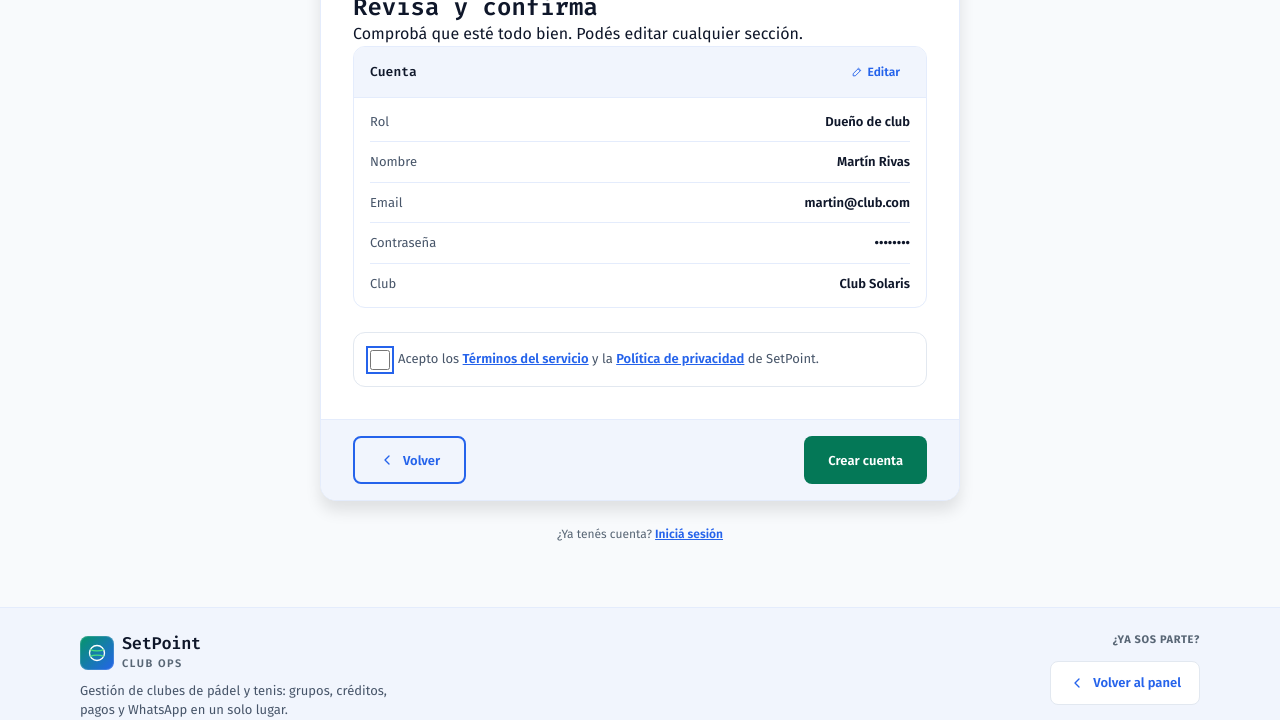
Test: OnboardingWizardComponent › sesión restaurada en confirm sin password: submit revalida cuenta y no crea el alta
The width and height of the screenshot is (1280, 720).
(page scrolled)
Click the checkbox at (380, 360), box [370,350,390,370]
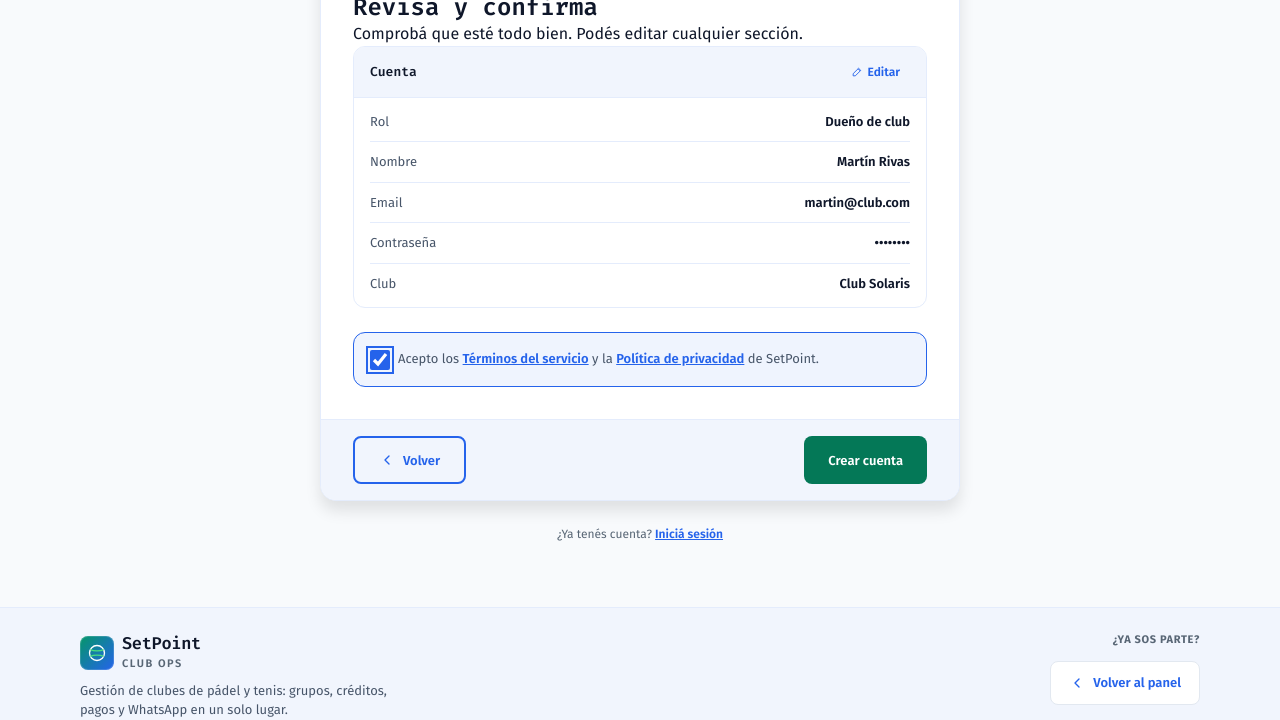
Click the button "Crear cuenta" at (866, 460), box [804,436,927,484]
(page scrolled)
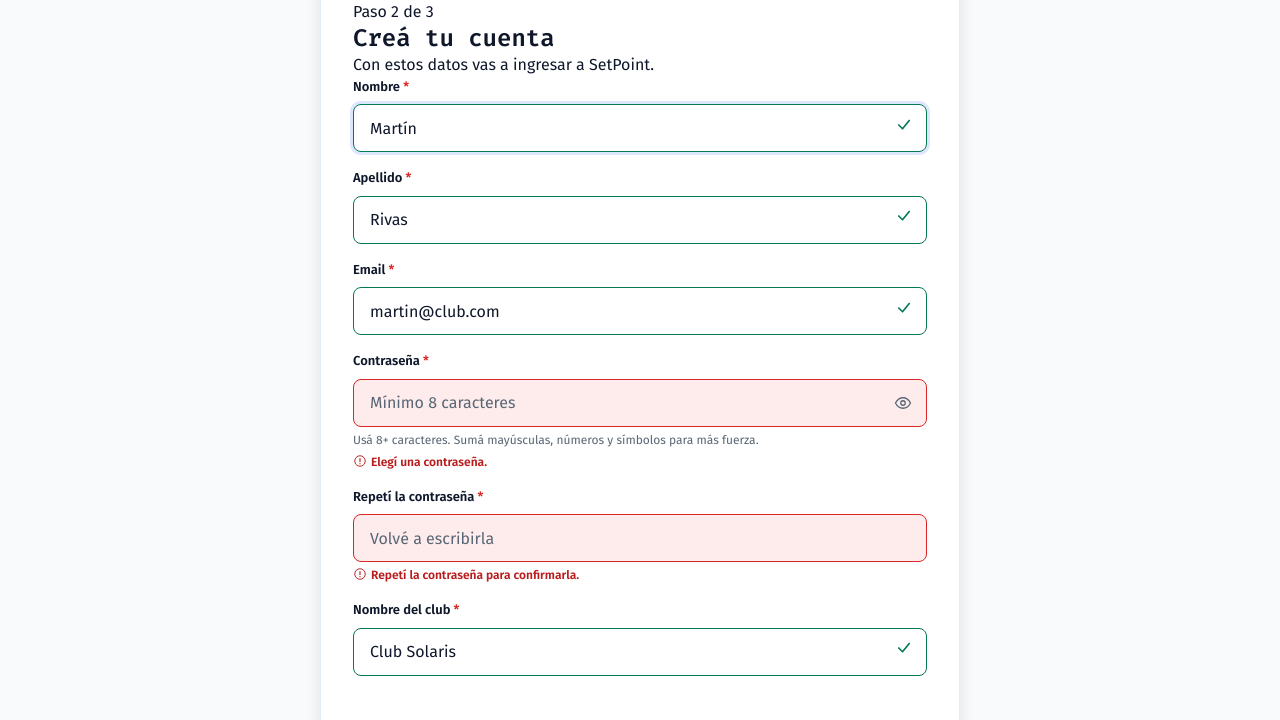
expect the element that starts with "Paso 2 de 3" is shown: met, box [353,0,927,676]
